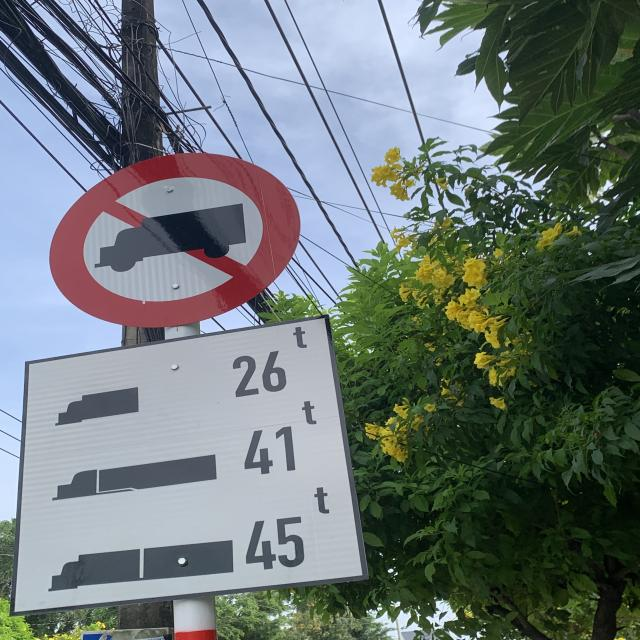Cam_Xe_Tai: (47, 153, 303, 329)
